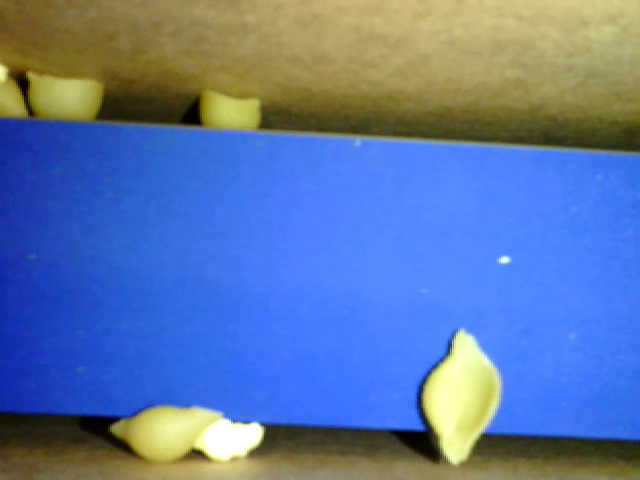shell: (419, 328, 501, 466), (108, 404, 219, 462), (26, 72, 105, 123), (198, 89, 261, 130)
